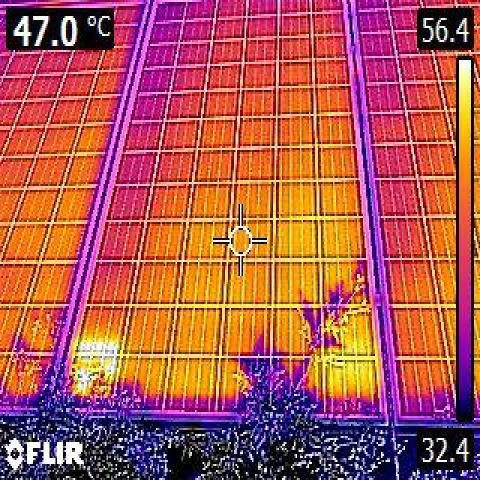fault: (75, 346, 114, 388)
